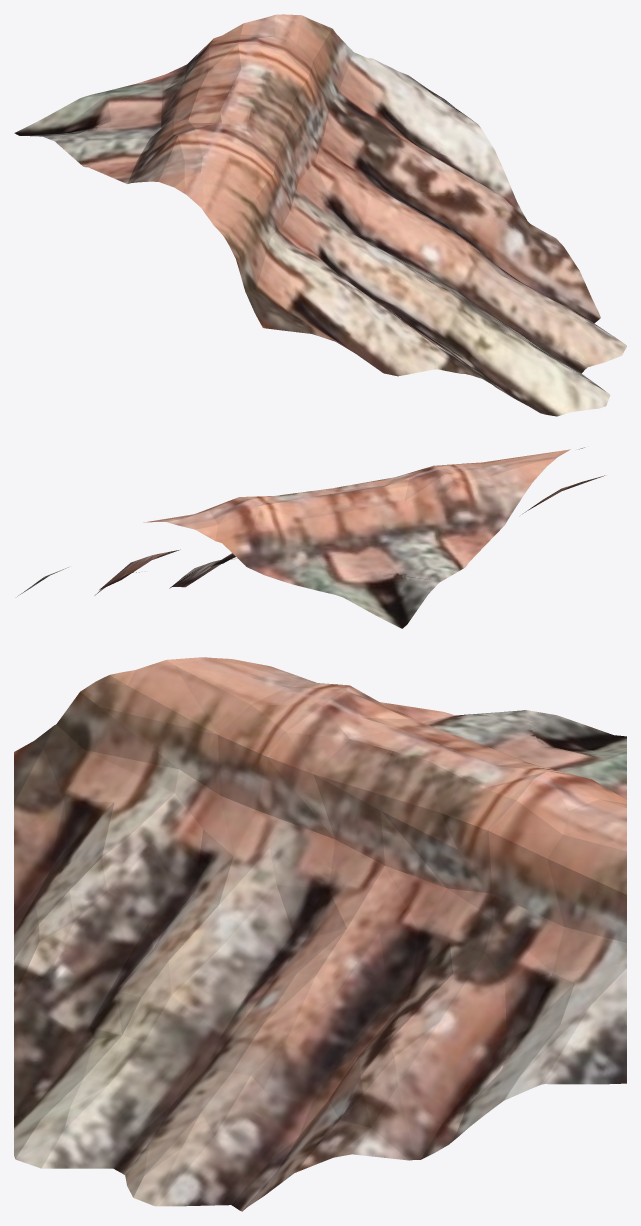
3 views of the same model, one above another, from view 1: azimuth 30°, elevation 25°; view 2: azimuth 150°, elevation 25°; view 3: azimuth 270°, elevation 25° (orthographic). The views are drawn at different scales.
Size of the model in its own units: 0.8374 by 0.4568 by 0.8373.
Materials: 3 (3 with a texture image).
